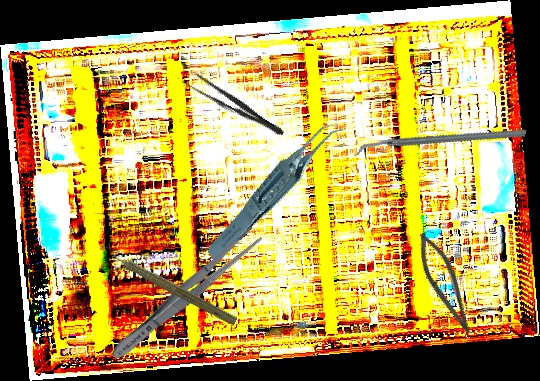Chopper: (355, 79, 527, 206)
Dressing Forceps: (105, 223, 265, 366), (180, 68, 288, 142)
Handpiece: (101, 243, 241, 328)
Micro Scissor: (407, 227, 485, 341)
Tissue Forceps: (184, 117, 370, 265)
